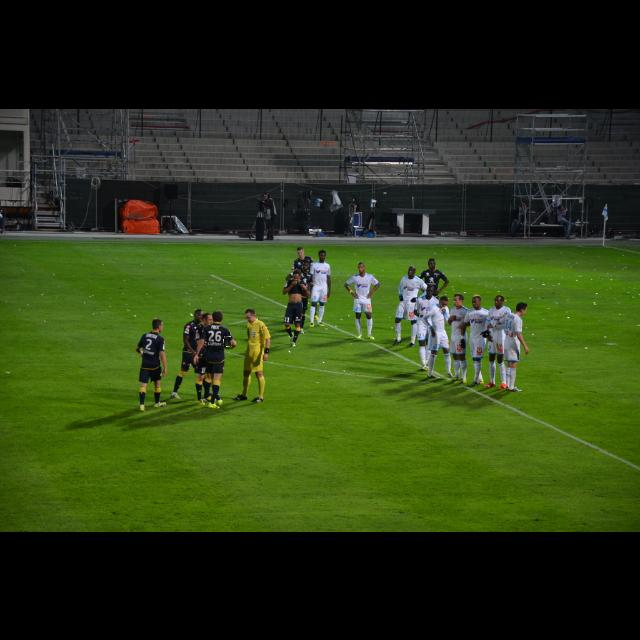Football: (224, 337, 232, 347)
